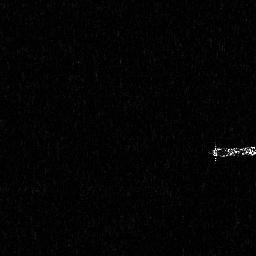ship: (206, 140, 256, 167)
